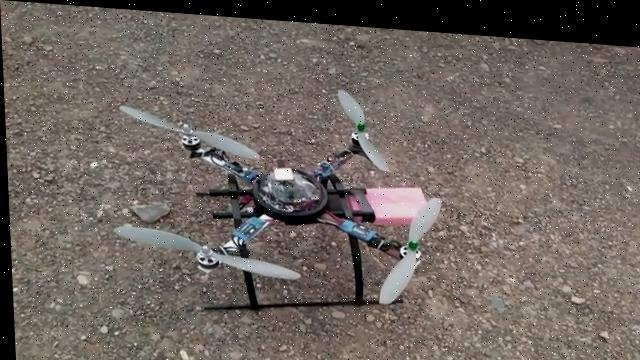drone: (103, 70, 443, 323)
